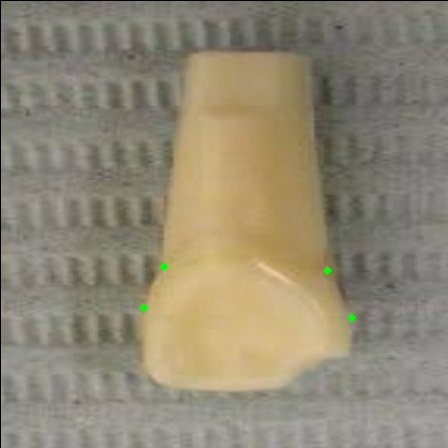coin_1: (327, 270, 347, 290)
coin_2: (351, 317, 371, 337)
coin_3: (163, 266, 183, 286)
coin_4: (143, 307, 163, 327)
